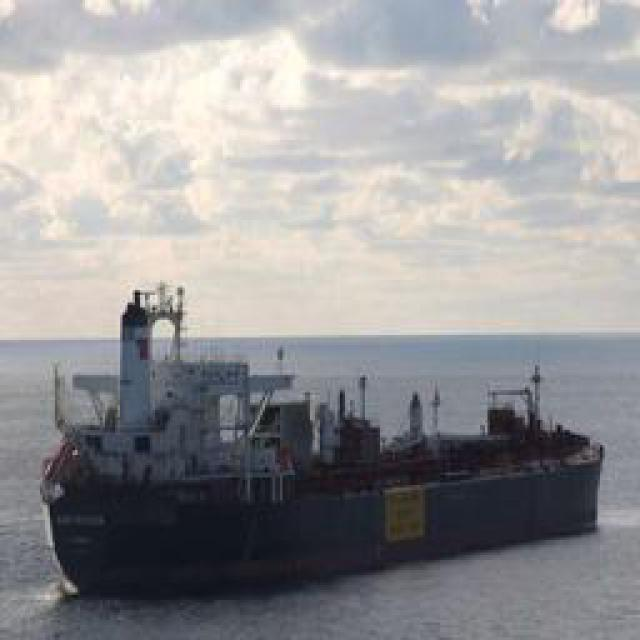Ship: (42, 319, 602, 592)
